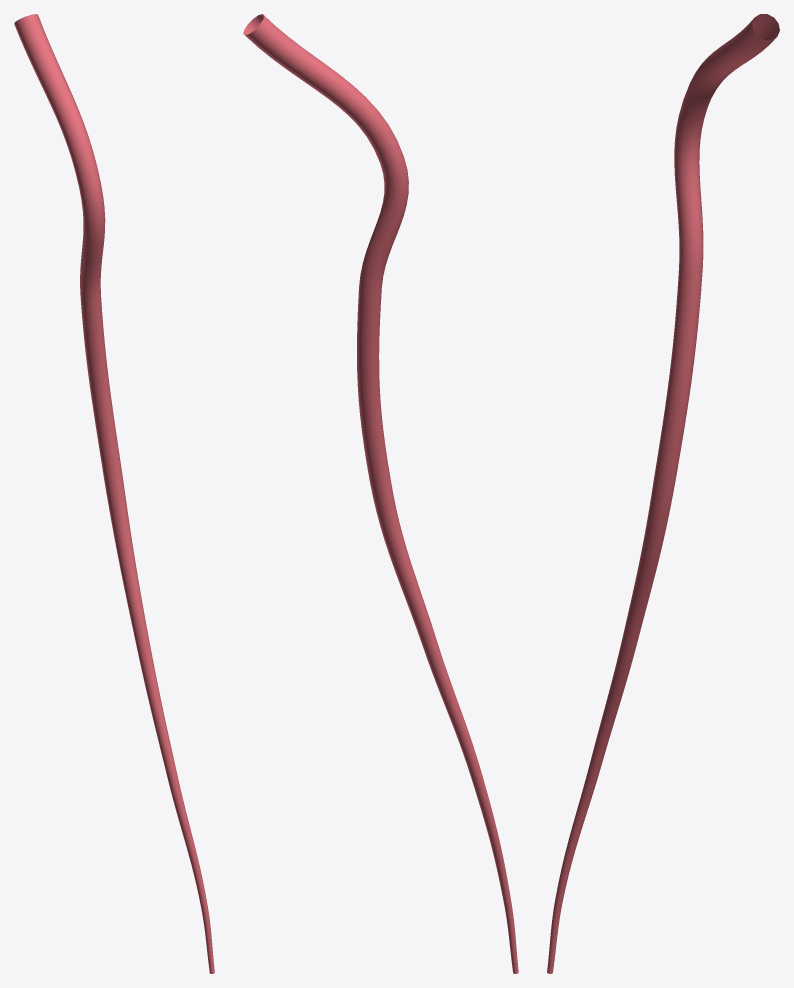
3 renders of one model, left to right at view 1: azimuth 90°, elevation 25°; view 2: azimuth 150°, elevation 25°; view 3: azimuth 270°, elevation 25°, orthographic. The views are drawn at different scales.
Visible parts, largest first — view 1: ZA_03fbbe5a57433587; view 2: ZA_03fbbe5a57433587; view 3: ZA_03fbbe5a57433587.
Part boxes in pixels (<box>): ZA_03fbbe5a57433587: <box>14,14,214,973</box>; ZA_03fbbe5a57433587: <box>243,14,518,973</box>; ZA_03fbbe5a57433587: <box>547,14,779,973</box>.
Size of the model in its own units: 0.0207 by 0.1149 by 0.0234.
